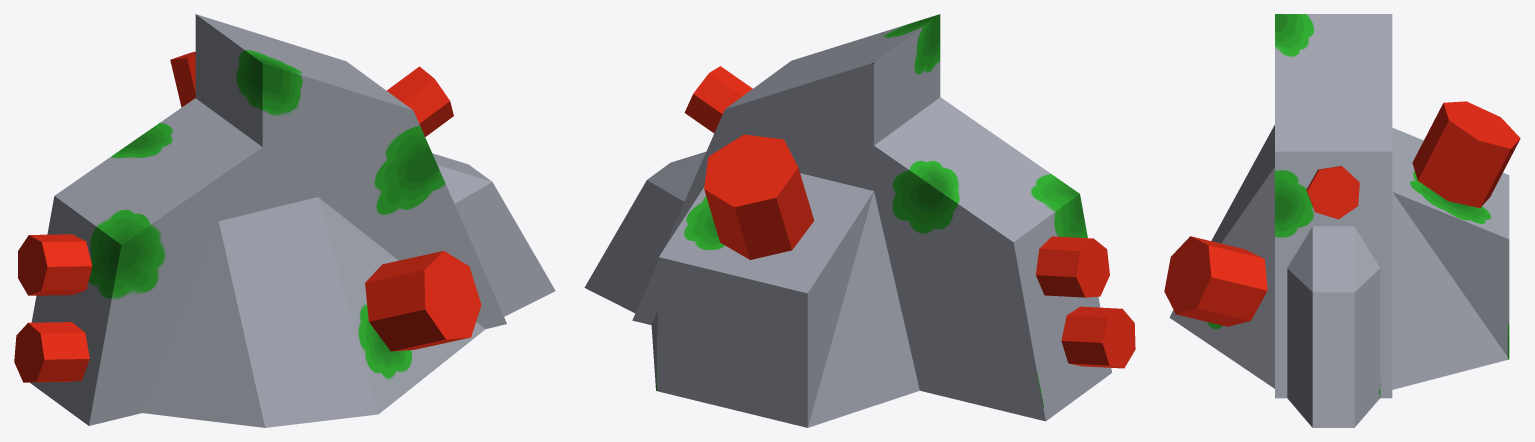
File: RubiMusgoTipo2.fbx
3 renders of one model, left to right at view 1: azimuth 30°, elevation 25°; view 2: azimuth 150°, elevation 25°; view 3: azimuth 270°, elevation 25°, orthographic. The views are drawn at different scales.
Parts seen in each view (by area): view 1: base.041, rubi.019, rubi.018, rubi.017, rubi.016, rubi.015; view 2: base.041, rubi.015, rubi.017, rubi.018, rubi.016; view 3: base.041, rubi.015, rubi.019, rubi.016.
Boxes of the visible parts, bbox=[...] form: base.041: bbox=[29, 14, 555, 427]; rubi.019: bbox=[365, 251, 481, 351]; rubi.018: bbox=[18, 234, 92, 295]; rubi.017: bbox=[14, 322, 89, 382]; rubi.016: bbox=[387, 66, 453, 136]; rubi.015: bbox=[170, 51, 195, 107]; base.041: bbox=[584, 14, 1111, 427]; rubi.015: bbox=[704, 134, 814, 259]; rubi.017: bbox=[1061, 306, 1135, 368]; rubi.018: bbox=[1036, 236, 1109, 297]; rubi.016: bbox=[684, 66, 752, 133]; base.041: bbox=[1169, 14, 1509, 427]; rubi.015: bbox=[1412, 101, 1520, 207]; rubi.019: bbox=[1164, 236, 1267, 326]; rubi.016: bbox=[1306, 166, 1359, 219].
Bounding box in the file's own units: 151 × 87.89 × 101.
